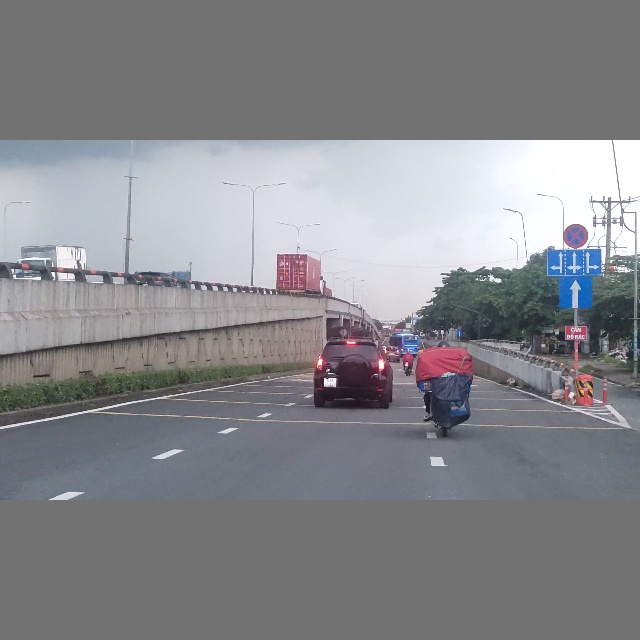I.407a: (558, 276, 593, 308), (456, 330, 463, 336)
P.130: (563, 223, 589, 248)
